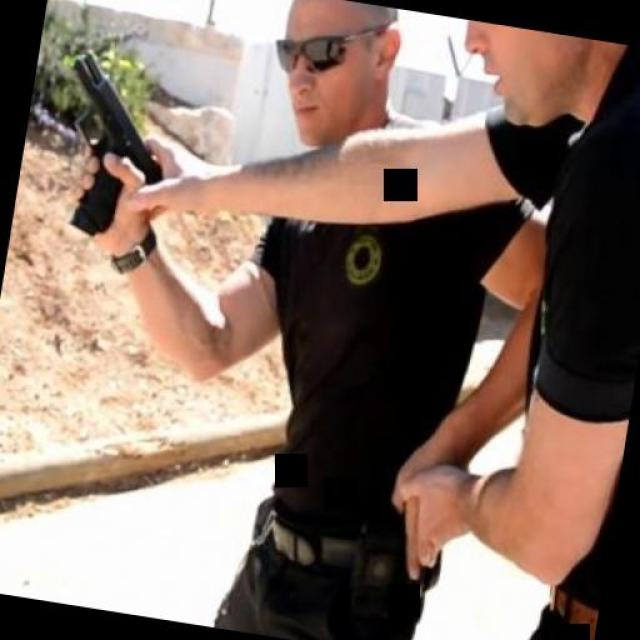gun: (36, 44, 185, 246)
